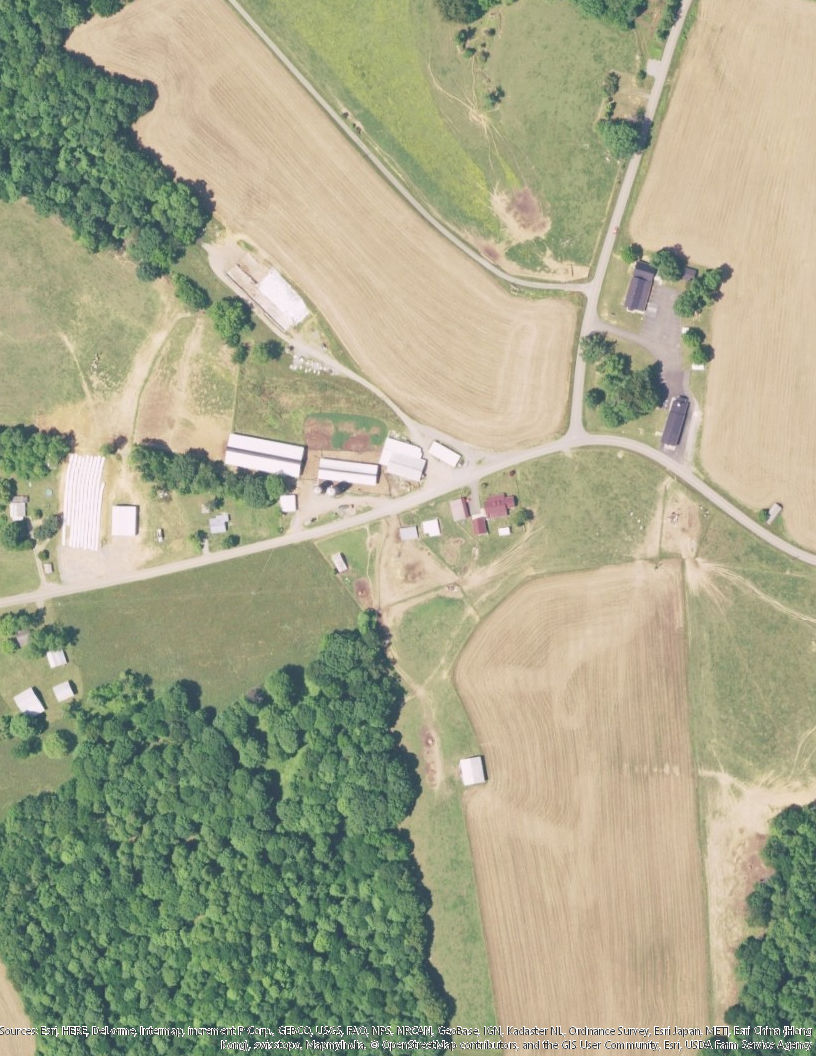cafo: (215, 431, 315, 481), (376, 434, 433, 483), (309, 457, 384, 485), (427, 440, 464, 468)
